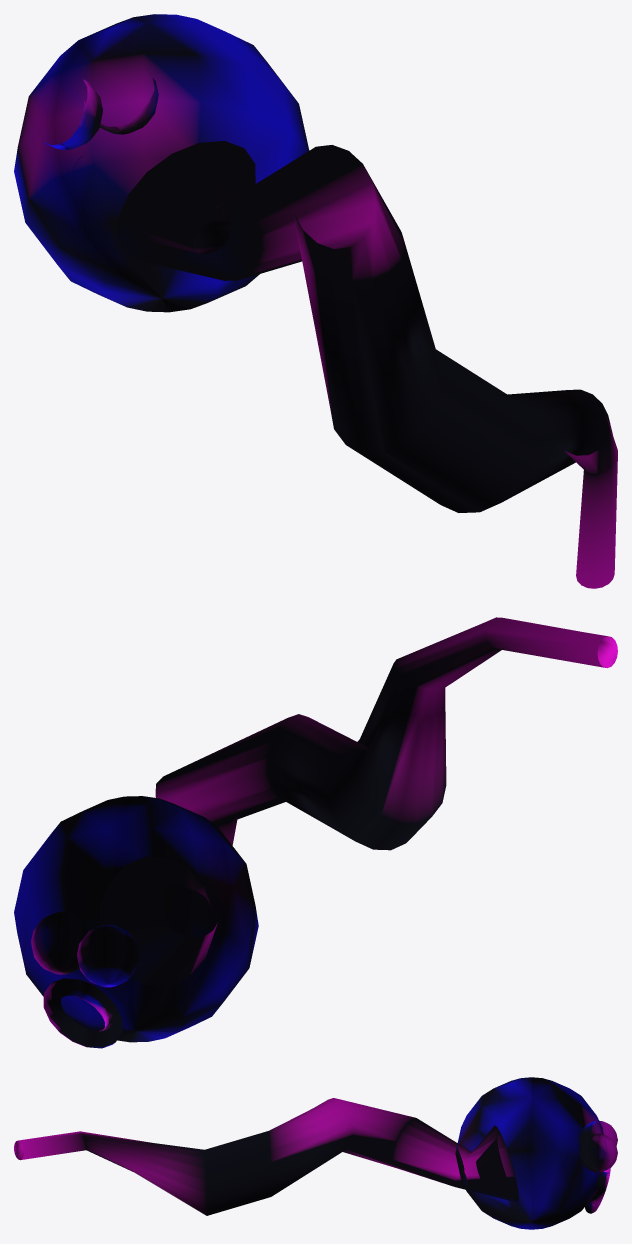
Rendered from eternityslurper.glb.
3 renders of one model, top to bottom at view 1: azimuth 30°, elevation 25°; view 2: azimuth 150°, elevation 25°; view 3: azimuth 270°, elevation 25°, orthographic. The views are drawn at different scales.
Visible parts, largest first — view 1: EternalSlurper; view 2: EternalSlurper; view 3: EternalSlurper.
Part boxes in pixels (<box>): EternalSlurper: <box>14,14,617,588</box>; EternalSlurper: <box>14,617,617,1048</box>; EternalSlurper: <box>14,1077,617,1229</box>.
Size of the model in its own units: 0.4299 by 0.4299 by 1.7.
